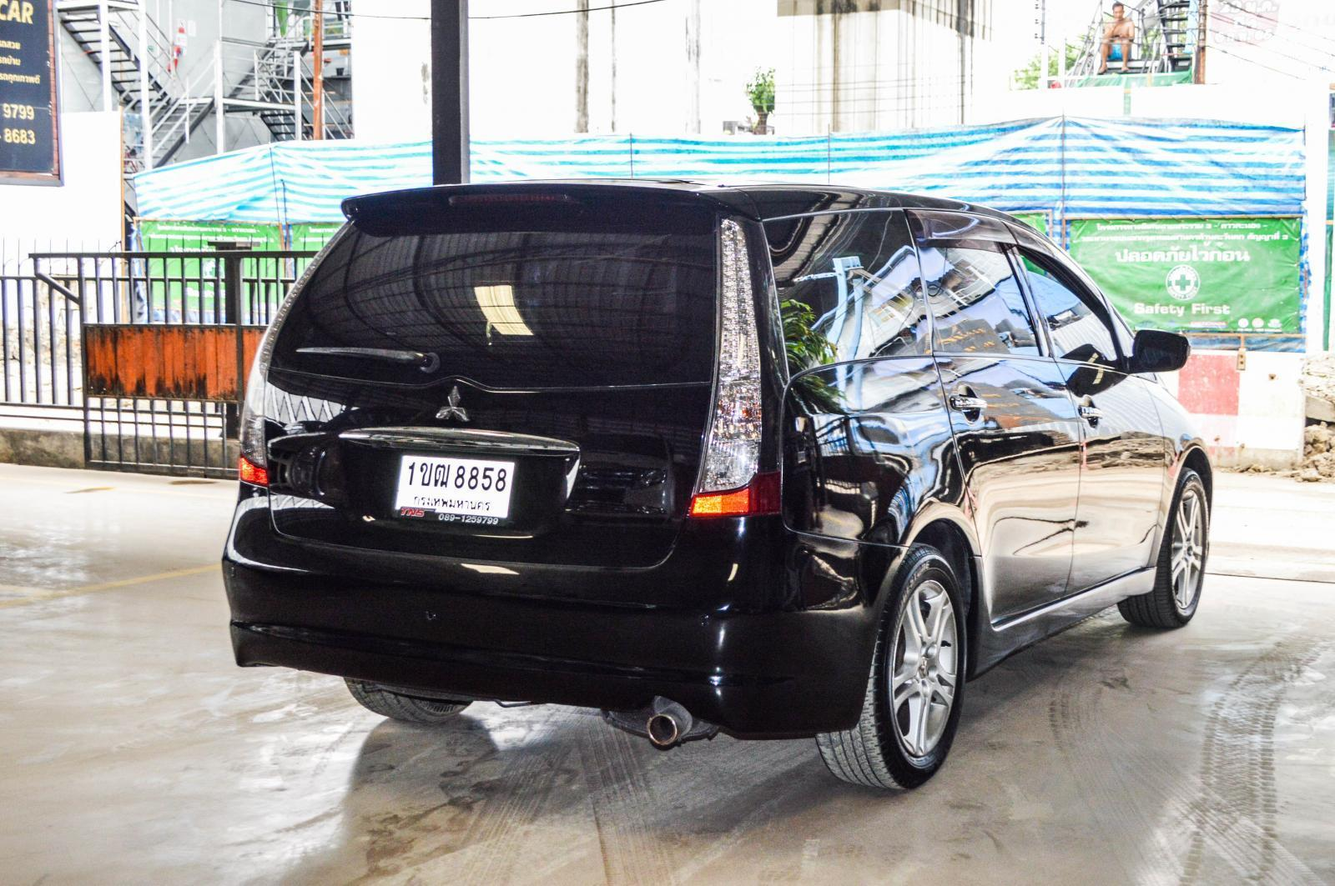license-plate: (383, 448, 522, 526)
